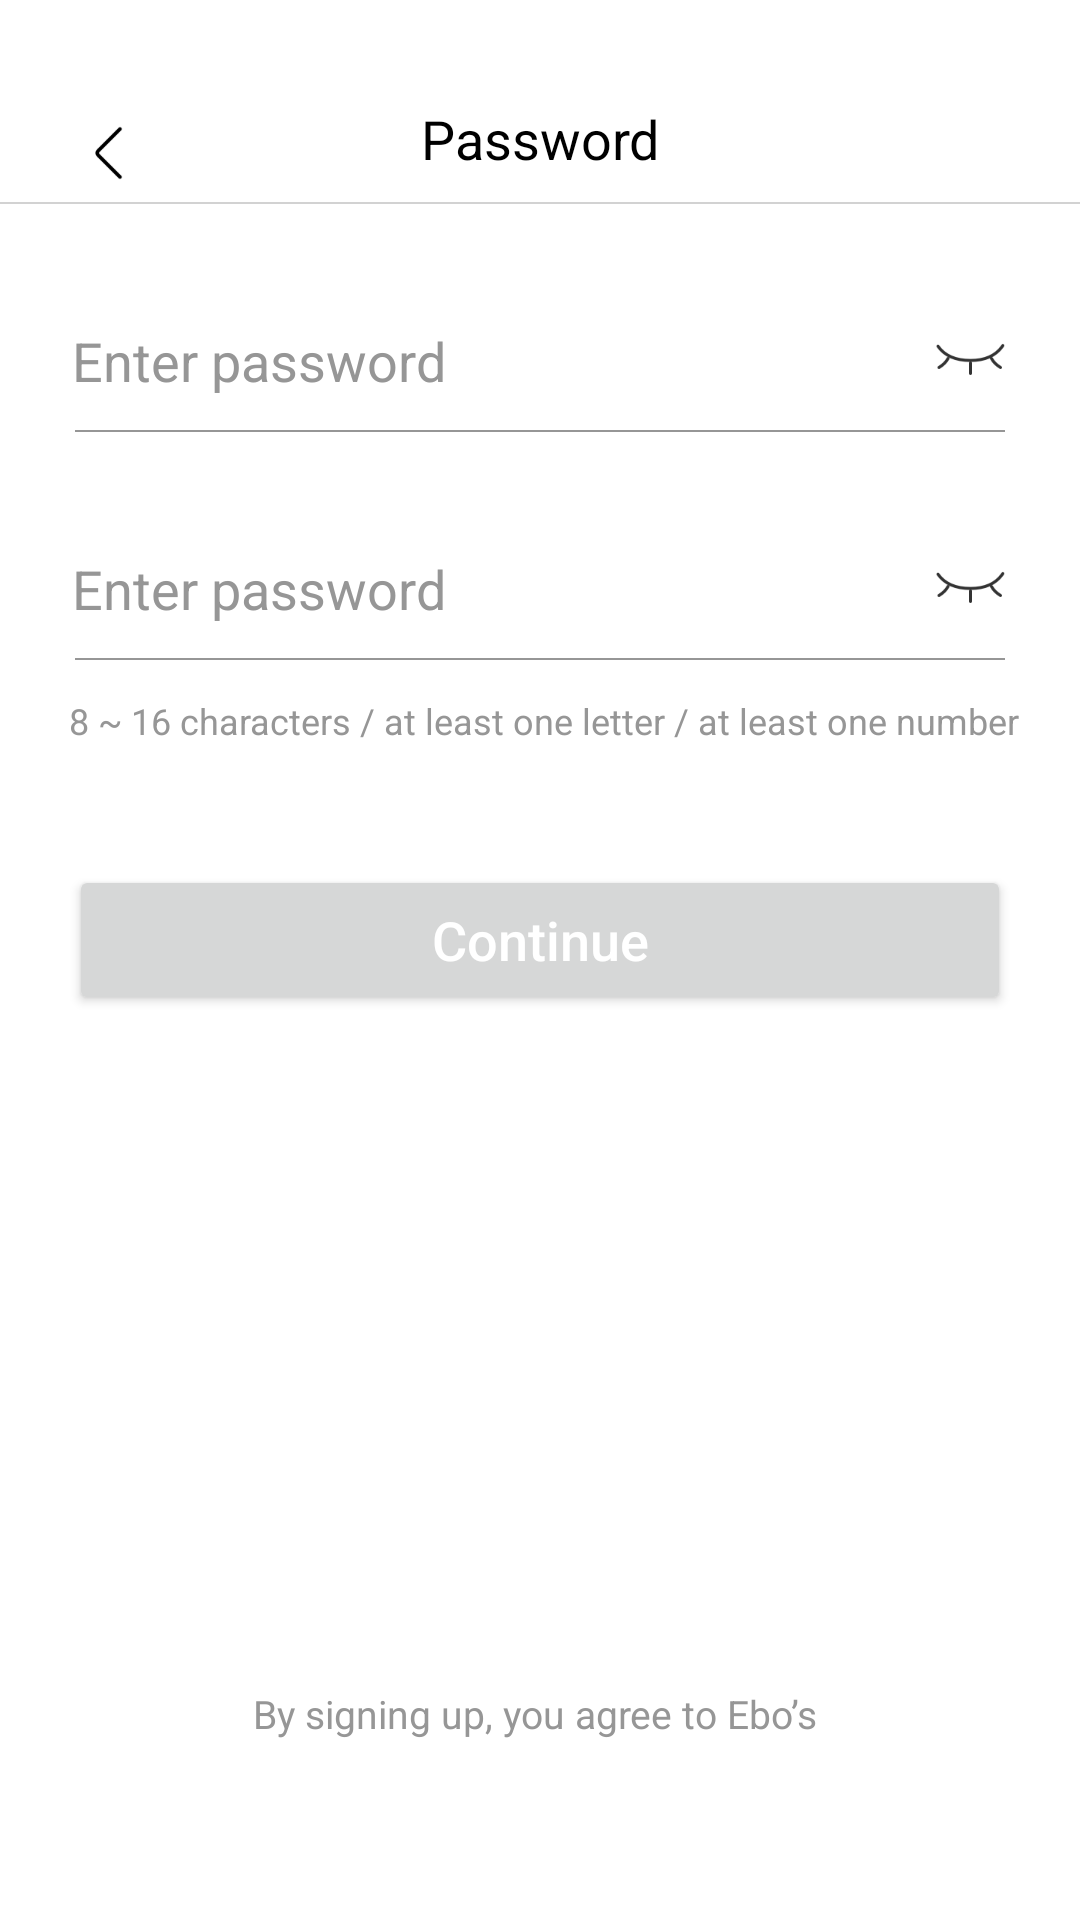

Named icons in this screenshot (1080 × 1920) and their bounding boxes, (x1, y1, x2, y2):
back: (95, 127, 122, 179)
pwd unsee: (936, 344, 1005, 375), (936, 572, 1005, 603)
